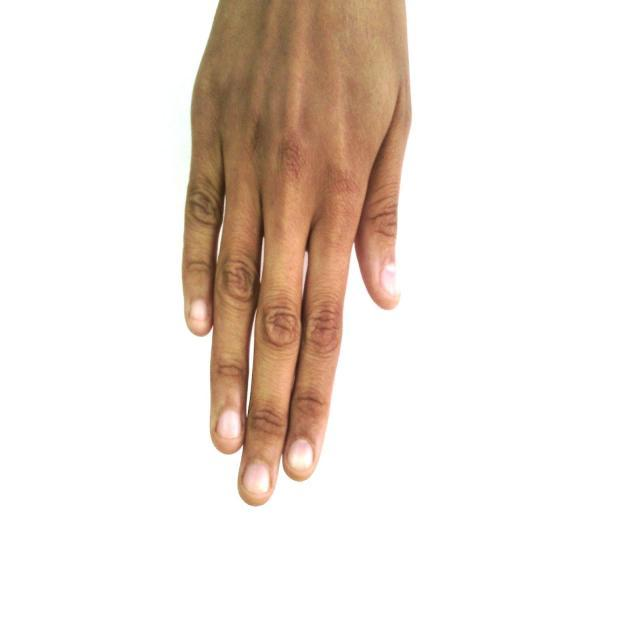Fingernail: (244, 463, 270, 493), (288, 440, 312, 469), (219, 410, 240, 438), (382, 263, 399, 295), (191, 300, 207, 324)
